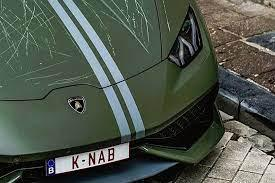bonnet-dent: (0, 1, 218, 136)
